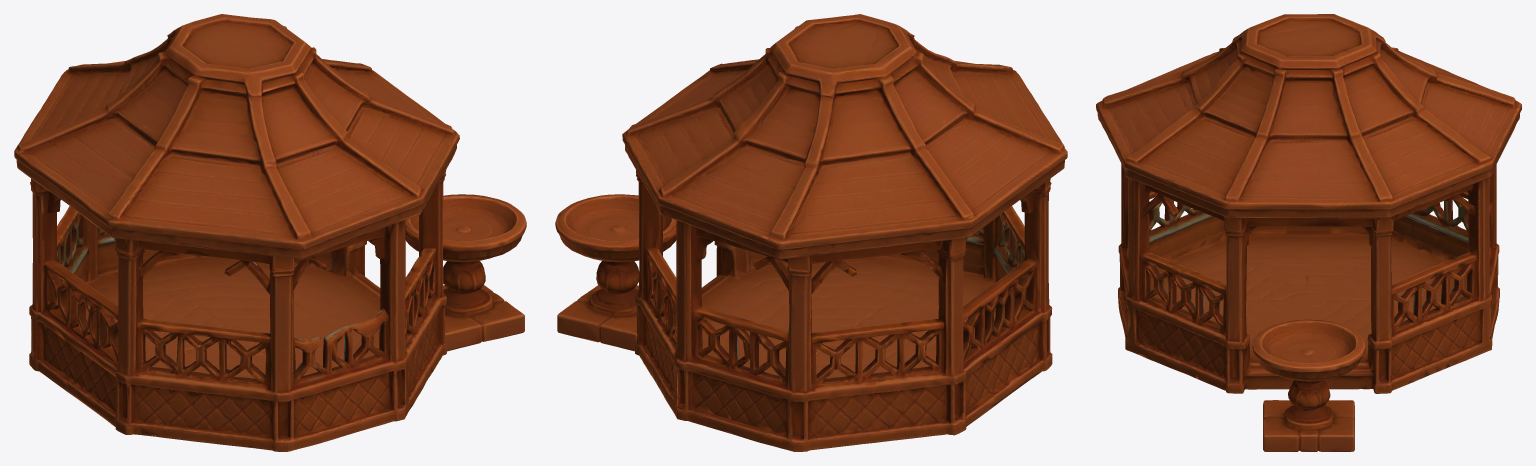
The model's file is gazebo.glb.
The picture shows the model from 3 angles, left to right: view 1: azimuth 30°, elevation 25°; view 2: azimuth 150°, elevation 25°; view 3: azimuth 270°, elevation 25°; orthographic projection. The views are drawn at different scales.
Visible parts, largest first — view 1: tripo_node_306f7fb3-ea27-40df-b7a8-8c3303ec30c5; view 2: tripo_node_306f7fb3-ea27-40df-b7a8-8c3303ec30c5; view 3: tripo_node_306f7fb3-ea27-40df-b7a8-8c3303ec30c5.
Part boxes in pixels (left/top/right/bottom): tripo_node_306f7fb3-ea27-40df-b7a8-8c3303ec30c5: left=14, top=14, right=526, bottom=451; tripo_node_306f7fb3-ea27-40df-b7a8-8c3303ec30c5: left=555, top=14, right=1067, bottom=451; tripo_node_306f7fb3-ea27-40df-b7a8-8c3303ec30c5: left=1096, top=14, right=1521, bottom=451.
Size of the model in its own units: 1 by 0.7024 by 0.9007.
Materials: 1 (1 with a texture image).
